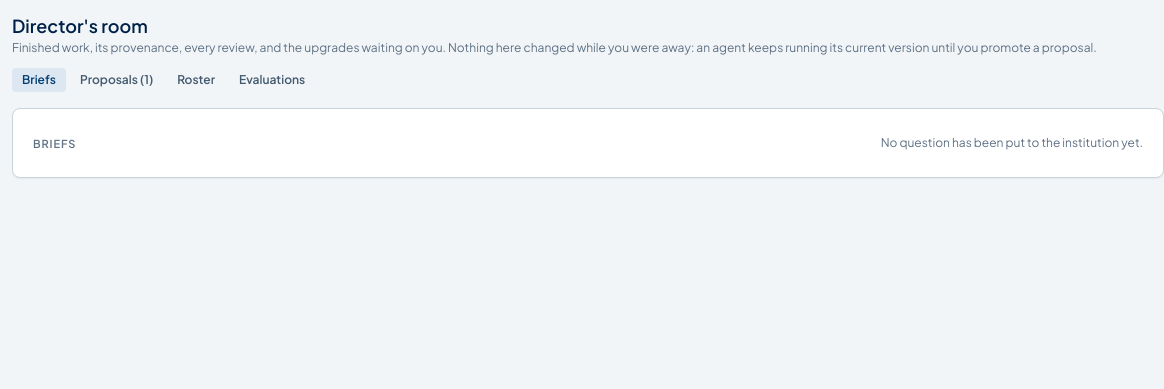
Test: §2 the director decides › will not let a rejection be submitted without a reason
Click the button "Proposals (1)".
click(116, 80)  # box [70,68,163,92]
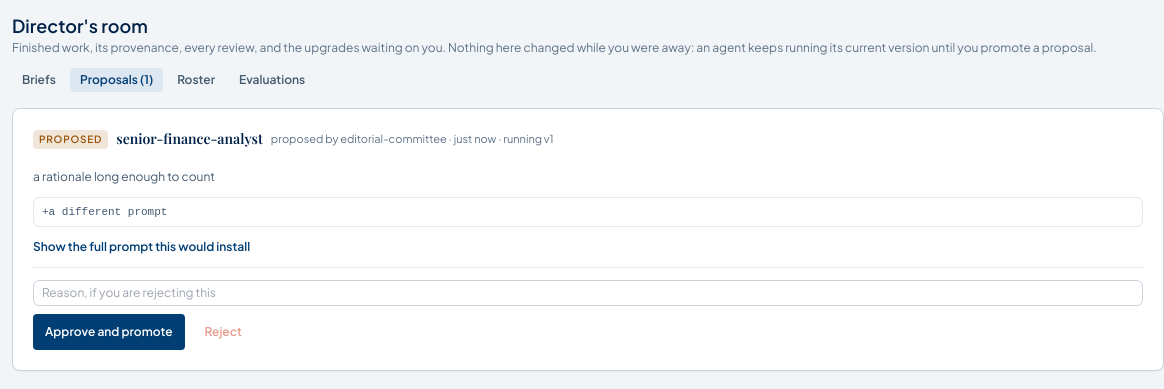
Check: the button "Reject" is disabled, box [193,314,254,350]
Type "the finding behind this was withdrawn" into the field with placeholder "Reason, if you are rejecting this".
click(588, 293); type("the finding behind this was withdrawn")  # box [33,280,1143,306]
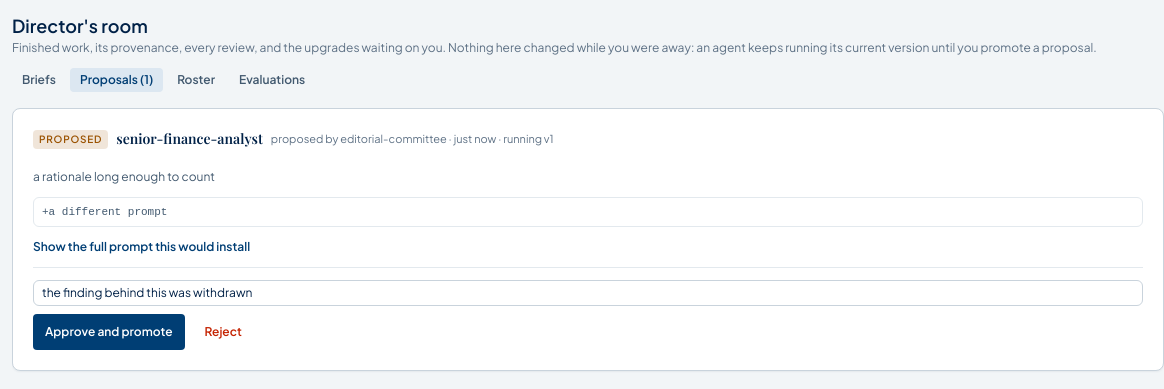
Check: the button "Reject" is enabled, box [193,314,254,350]
